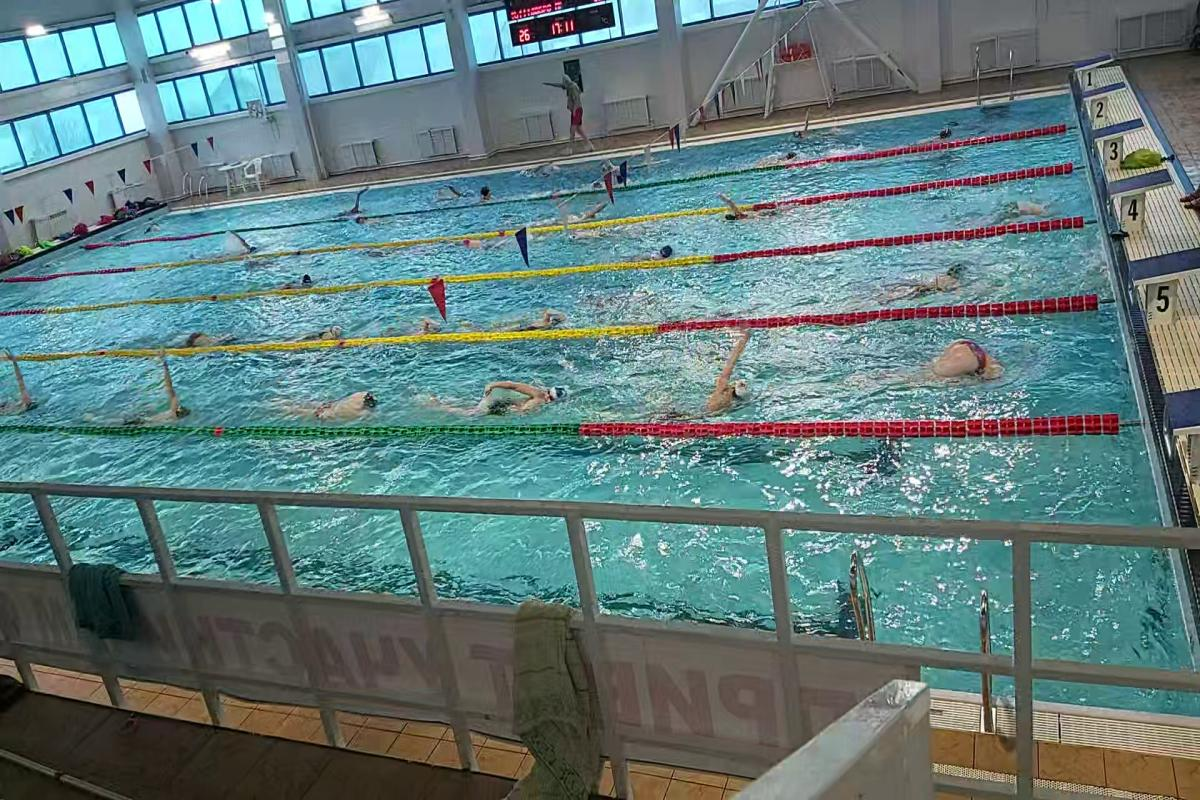swimmer: (892, 338, 1021, 396), (446, 378, 578, 421), (111, 377, 197, 423), (291, 382, 387, 422), (700, 360, 757, 424), (880, 264, 974, 300), (718, 195, 782, 226), (510, 296, 568, 326), (992, 198, 1055, 225), (181, 326, 228, 350), (298, 320, 348, 341), (283, 267, 322, 288), (642, 242, 676, 264)
